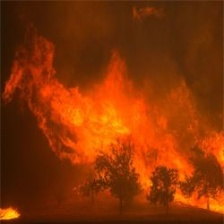fire: (44, 80, 224, 215)
